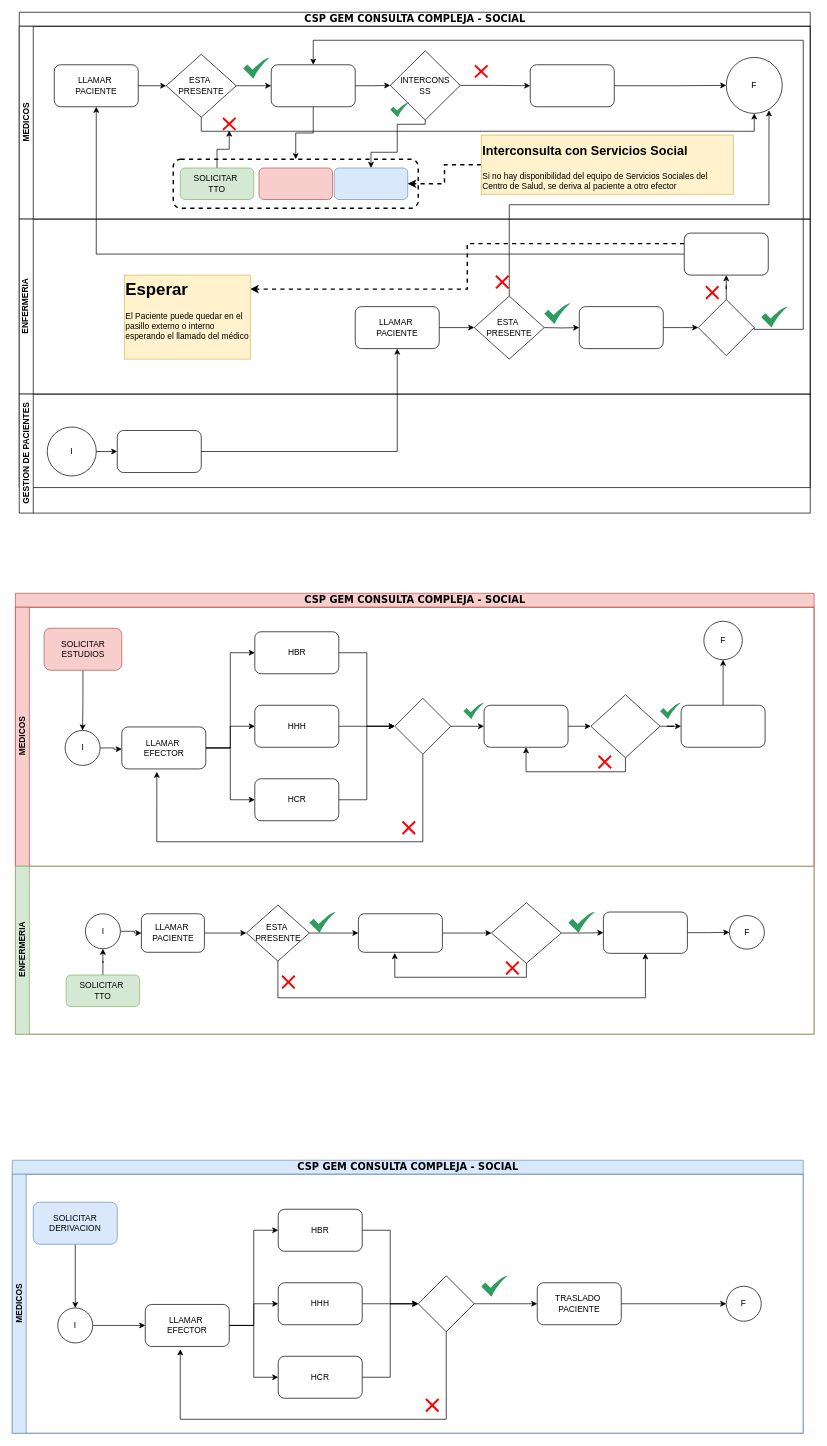
This 827x1446 diagram has some shape labels left out. Here are the shapes that lost their labels. From the top down, the centre of each, then its label:
(x=313, y=85): ATENDER PACIENTE
(x=572, y=85): FINALIZAR ATENCIÓN CON TURNO A SS
(x=295, y=183): SOLICITAR ESUTDIOS
(x=371, y=183): DERIVACIÓN
(x=726, y=253): ESPERAR ATENCION MEDICA
(x=621, y=327): REALIZAR TRIAJE
(x=726, y=327): Shockroom/ Respiratorio
(x=159, y=451): RECEPCIONAR PACIENTES
(x=422, y=726): CONSIGO ESTUDIO
(x=525, y=726): REALIZO ESTUDIO
(x=625, y=726): ESTUDIO FINALIZADO
(x=722, y=726): AVISO MEDICO
(x=400, y=932): REALIZAR TTO
(x=526, y=932): TTO FINALIZADO
(x=645, y=932): AVISAR AL MEDICO
(x=446, y=1303): CONSIGO DERIVAR
